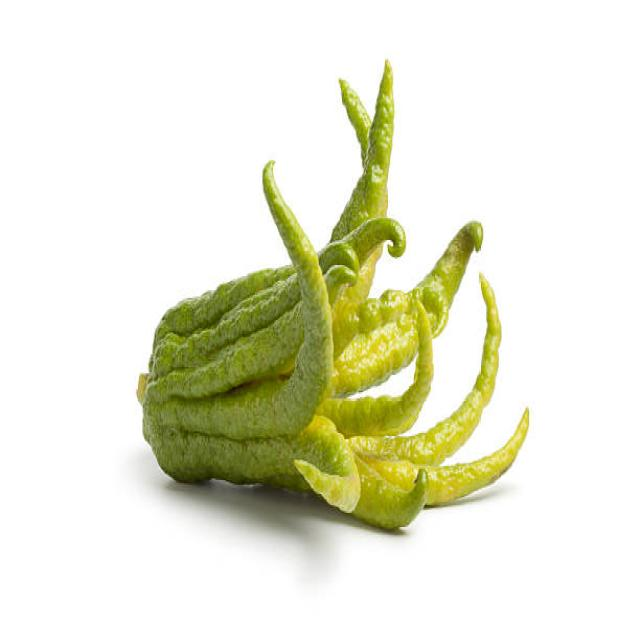PhatThu: (130, 49, 531, 540)
